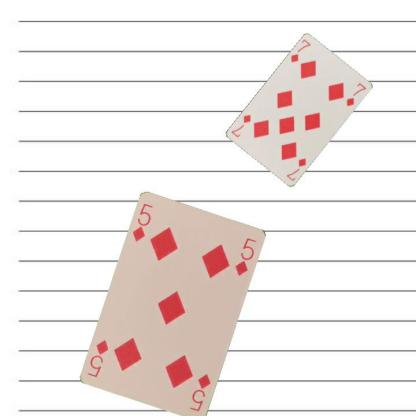5d: (130, 201, 154, 244), (187, 372, 212, 413)
7d: (288, 37, 312, 64), (284, 156, 307, 182)
